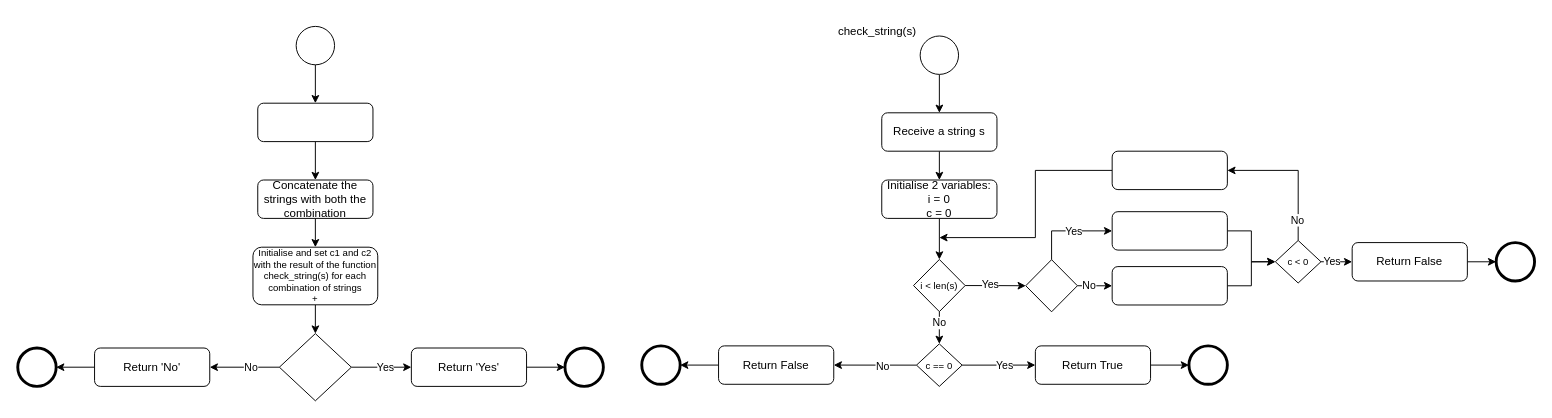
Some shapes in this 1552 by 418 pixel diagram are drawn without their labels. The shapes that lost their labels are listed below. From the top down, each one's centre as x and y in pixels, then its label:
At [315,122]: "Receive a list composed of 2 strings".
At [1169,170]: "Increase i by 1".
At [1169,230]: "Increase c by 1".
At [1051,285]: "s[i] == '('".
At [1169,285]: "Decrease c by 1".
At [314,367]: "c1 or c2".
